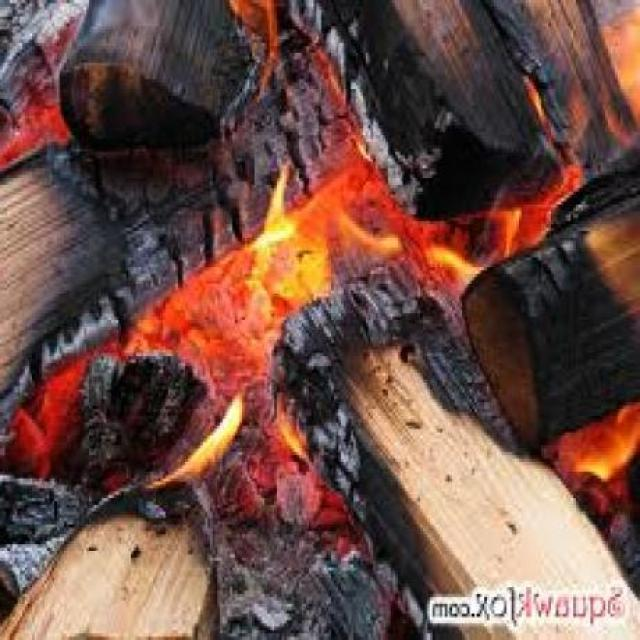Fire: (13, 13, 640, 499)
